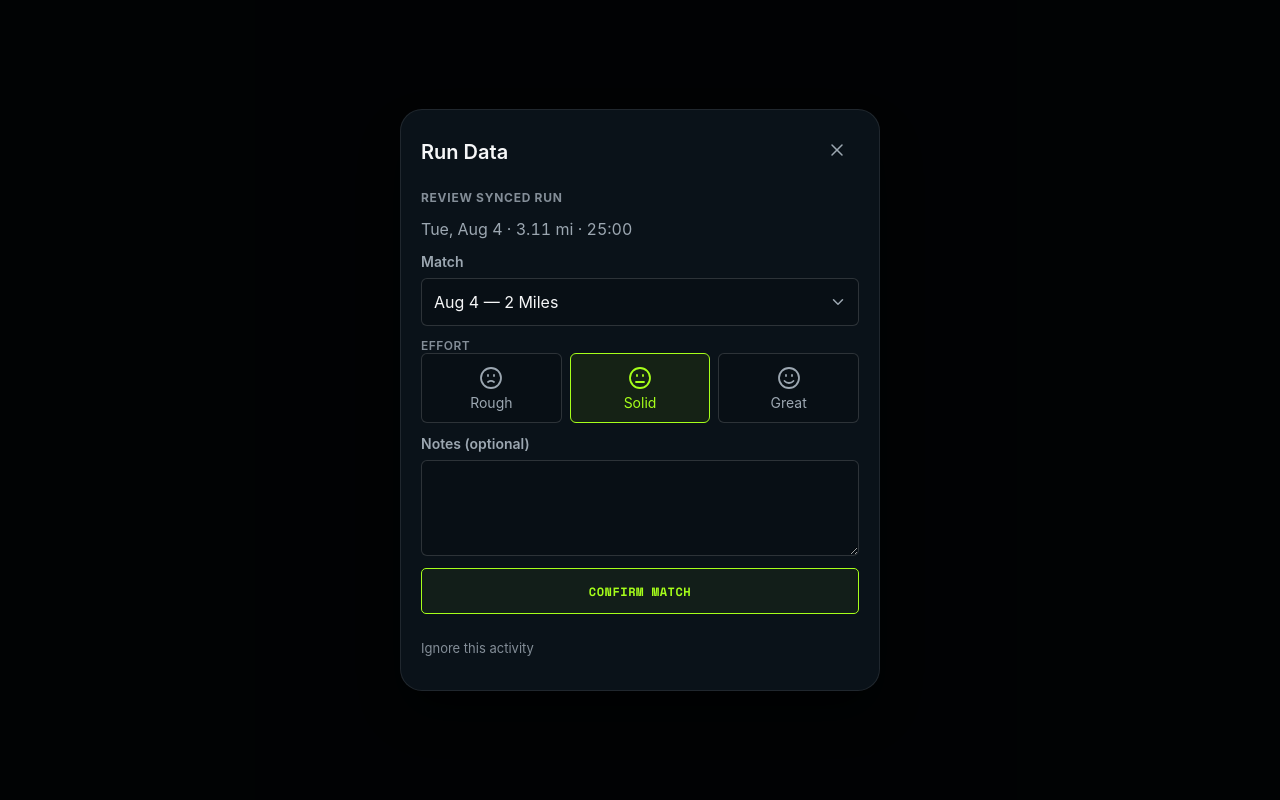
it: RunDataSheet › turns the run into an extra when the Match selector is cleared
Select "Add as Extra Run" in the dropdown labelled "Match": {"x": 640, "y": 302} top-left (421, 278), bottom-right (859, 326)
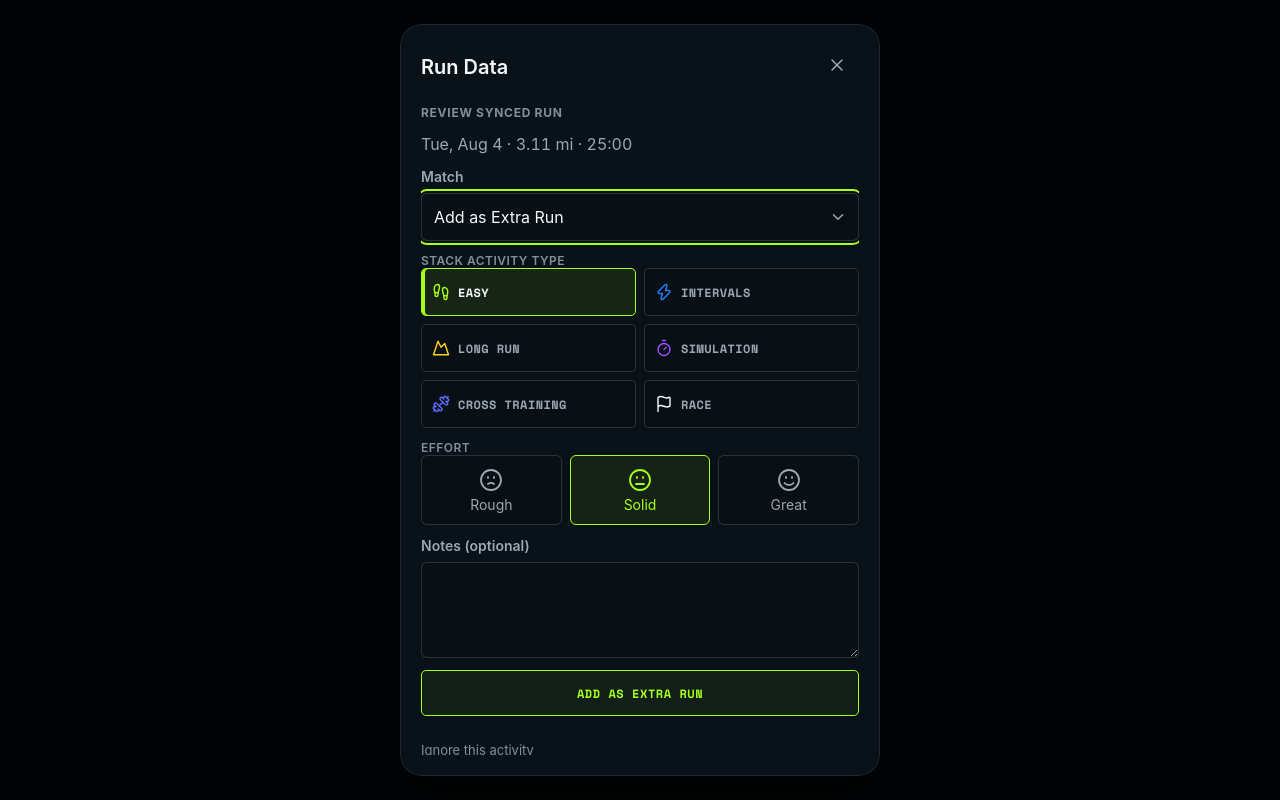
Expected: the button "Add as Extra Run" is shown, top-left (421, 670), bottom-right (859, 716)
